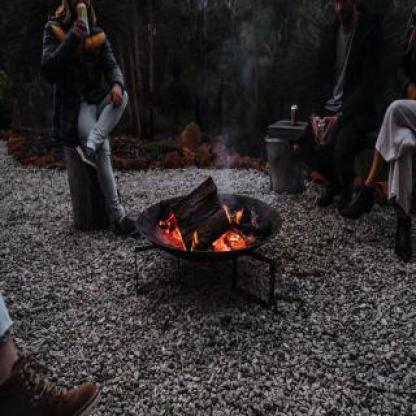fire: (210, 202, 248, 255), (156, 211, 199, 247)
